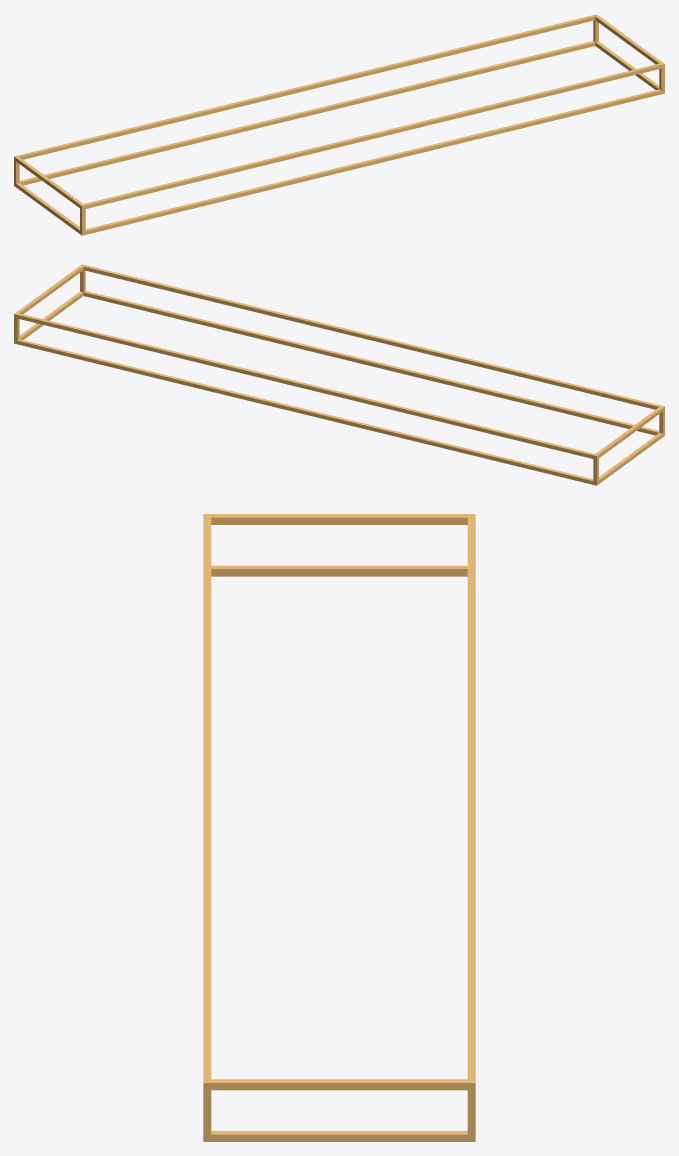
File: snowboards.glb
The picture shows the model from 3 angles, top to bottom: view 1: azimuth 30°, elevation 25°; view 2: azimuth 150°, elevation 25°; view 3: azimuth 270°, elevation 25°; orthographic projection. The views are drawn at different scales.
Visible parts, largest first — view 1: box_0; view 2: box_0; view 3: box_0.
Boxes of the visible parts, <box> form: box_0: <box>14,14,664,235</box>; box_0: <box>14,264,664,485</box>; box_0: <box>203,514,475,1141</box>.
Bounding box in the file's own units: 1.65 × 0.0799 × 0.3346.
